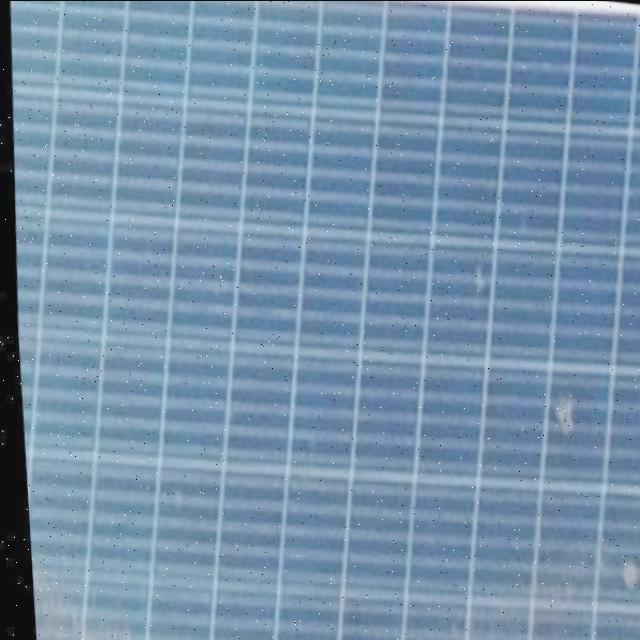Surface Contaminant: (25, 558, 244, 640), (540, 363, 583, 453), (604, 543, 640, 607)
